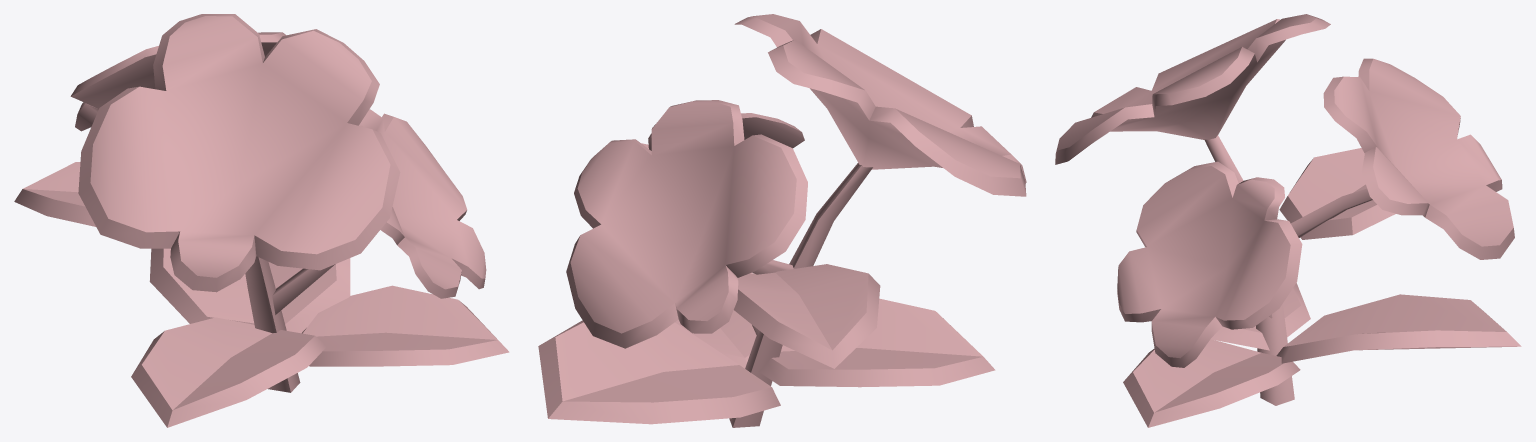
The model's file is Plant_Flowers_fbx.fbx.
The picture shows the model from 3 angles, left to right: view 1: azimuth 30°, elevation 25°; view 2: azimuth 150°, elevation 25°; view 3: azimuth 270°, elevation 25°; orthographic projection. The views are drawn at different scales.
Parts seen in each view (by area): view 1: Plant_Flower_LOD0; view 2: Plant_Flower_LOD0; view 3: Plant_Flower_LOD0.
Part boxes in pixels (x1,y1,x2,y2): Plant_Flower_LOD0: (14,14,509,427); Plant_Flower_LOD0: (538,14,1026,427); Plant_Flower_LOD0: (1055,14,1521,427).
Size of what is drawn, in the model's own units: 0.276 by 0.2537 by 0.3048.
